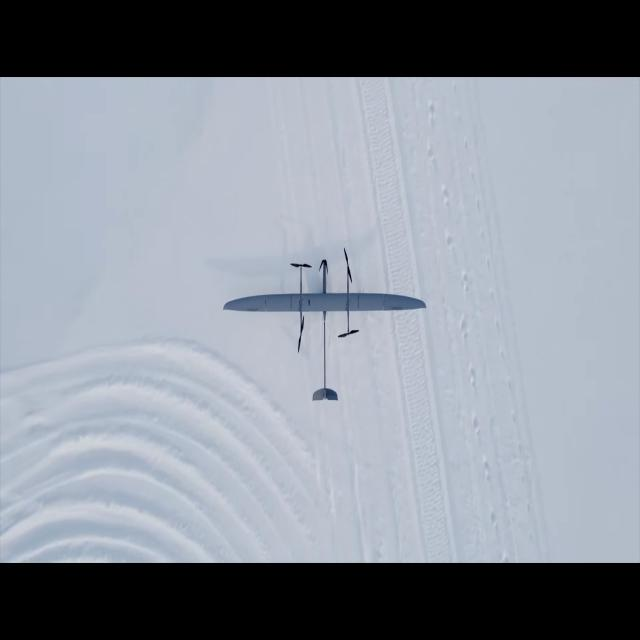iha: (218, 256, 422, 390)
